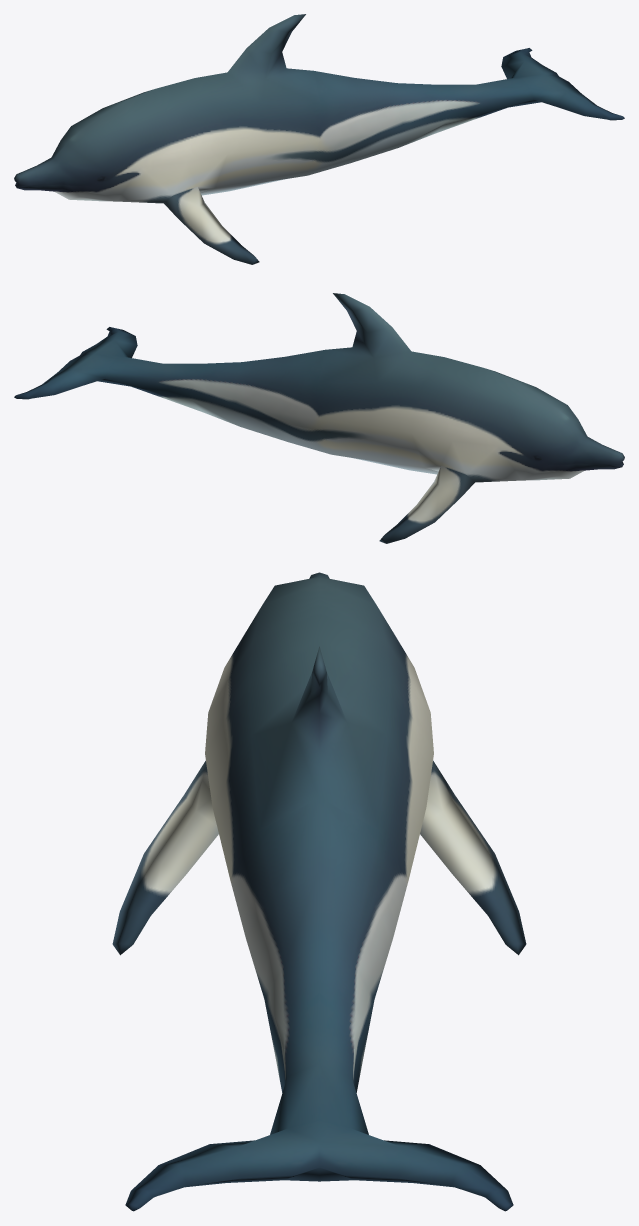
File: f18_haitun.FBX
3 renders of one model, top to bottom at view 1: azimuth 30°, elevation 25°; view 2: azimuth 150°, elevation 25°; view 3: azimuth 270°, elevation 25°, orthographic. The views are drawn at different scales.
Parts seen in each view (by area): view 1: f18_haitun; view 2: f18_haitun; view 3: f18_haitun.
Part boxes in pixels (x1=…): f18_haitun: x1=14, y1=14, x2=624, y2=264; f18_haitun: x1=14, y1=293, x2=624, y2=543; f18_haitun: x1=112, y1=572, x2=526, y2=1211.
Size of the model in its own units: 286 by 92.33 by 91.14.
1 material, 1 textured.
